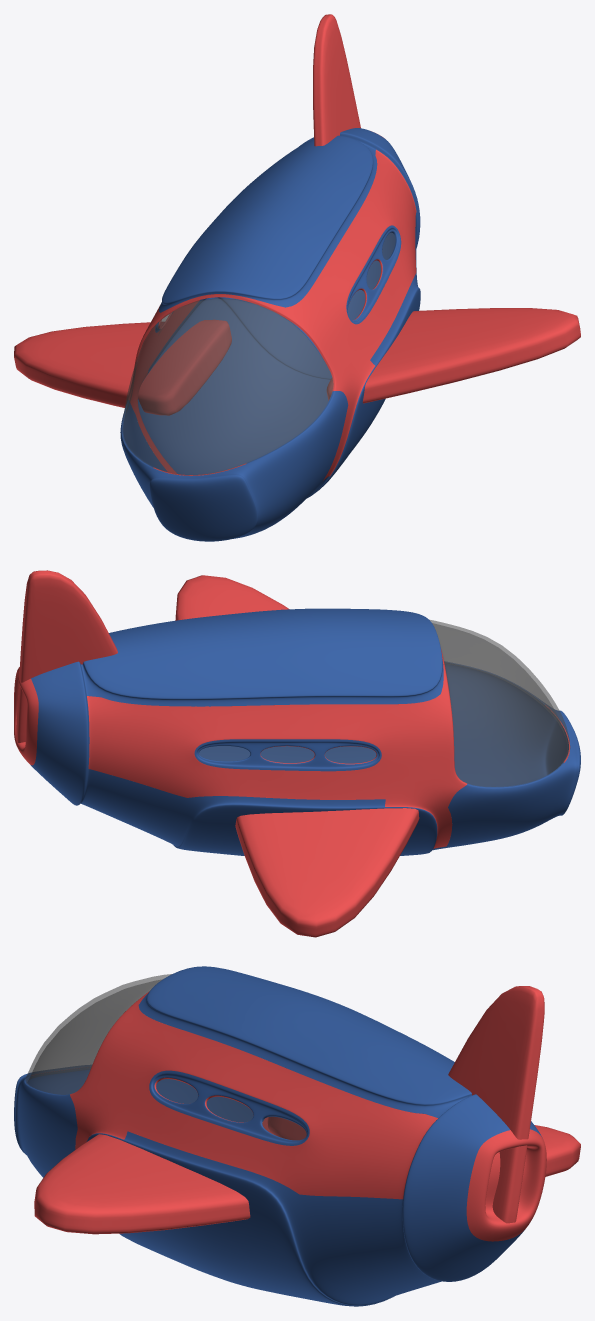
The model's file is space-shuttle-3d-animated-icon-1580291854563.glb.
3 renders of one model, top to bottom at view 1: azimuth 30°, elevation 25°; view 2: azimuth 150°, elevation 25°; view 3: azimuth 270°, elevation 25°, orthographic. The views are drawn at different scales.
Visible parts, largest first — view 1: body, glass; view 2: body, glass; view 3: body, glass.
Boxes of the visible parts, box(x1,y1,x2,y2) form: body: box(14, 14, 580, 541); glass: box(122, 233, 395, 475); body: box(14, 570, 580, 937); glass: box(199, 620, 570, 787); body: box(14, 966, 580, 1306); glass: box(25, 974, 306, 1139).
Bounding box in the file's own units: 2.8 × 2.12 × 2.84.
